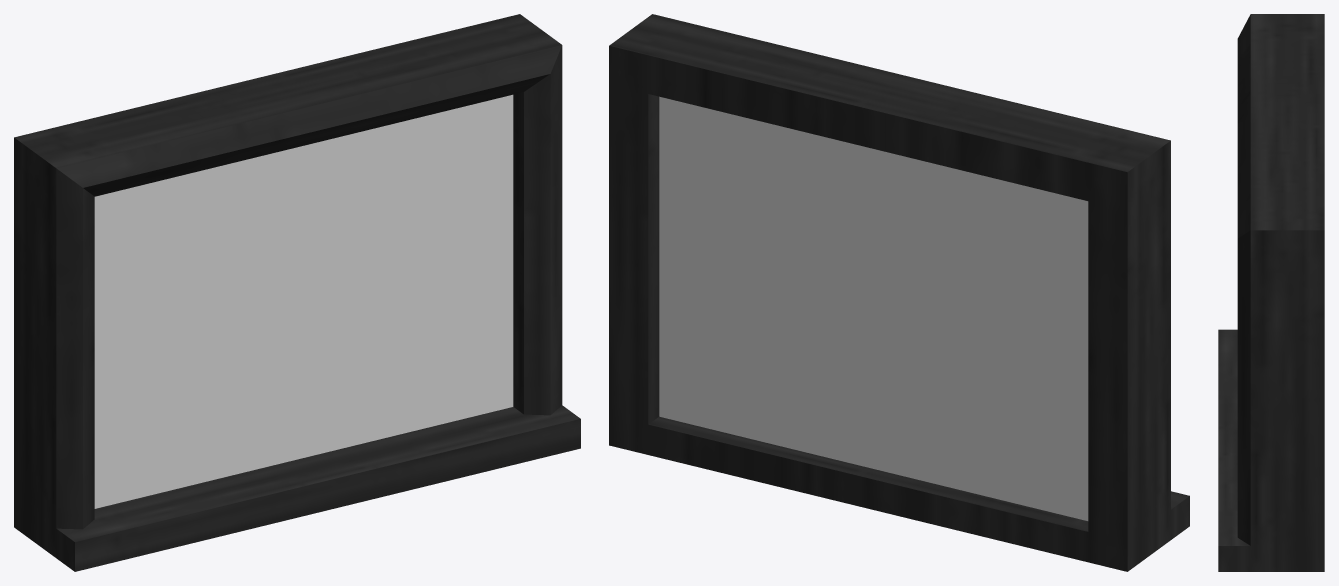
Rendered from Window.fbx.
3 views of the same model, side by side, from view 1: azimuth 30°, elevation 25°; view 2: azimuth 150°, elevation 25°; view 3: azimuth 270°, elevation 25° (orthographic). The views are drawn at different scales.
Visible parts, largest first — view 1: WindowGlass, WindowFrame; view 2: WindowGlass, WindowFrame; view 3: WindowFrame.
Part boxes in pixels (x1,y1,x2,y2): WindowGlass: [94, 94, 513, 508]; WindowFrame: [14, 14, 580, 571]; WindowGlass: [659, 96, 1088, 520]; WindowFrame: [609, 14, 1189, 571]; WindowFrame: [1218, 14, 1324, 571].
Bounding box in the file's own units: 272 × 200 × 56.61.
